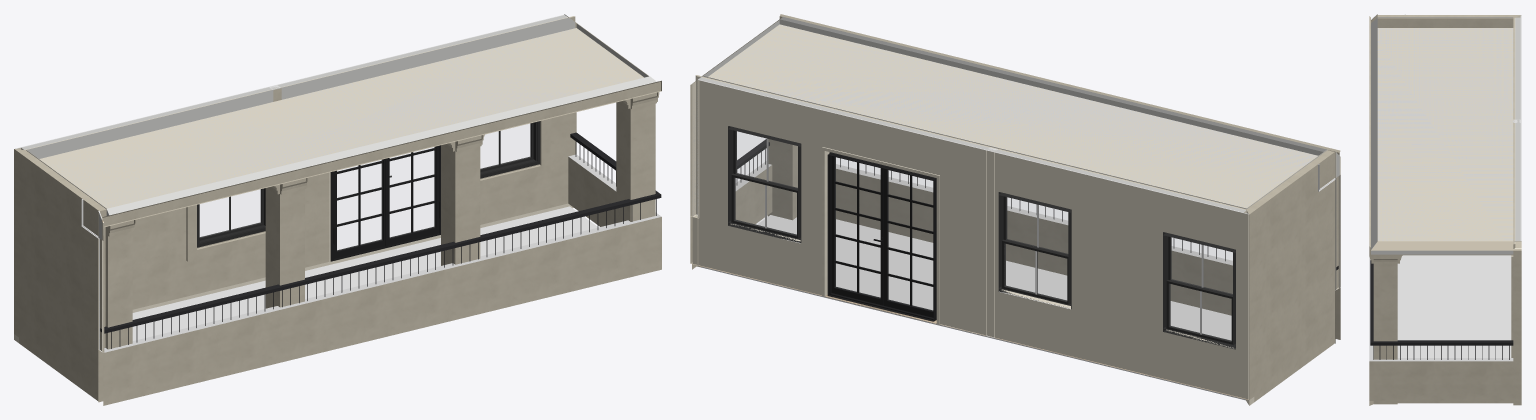
File: front-balcony-fedcafbd5b4b.glb
3 renders of one model, left to right at view 1: azimuth 30°, elevation 25°; view 2: azimuth 150°, elevation 25°; view 3: azimuth 270°, elevation 25°, orthographic. The views are drawn at different scales.
Parts seen in each view (by area): view 1: front-balcony-0ac23dde8d2f7c54, front-balcony-b39baa29700ae605, front-balcony-f6a7cfeba332478b, front-balcony-62353aa10fc57f23, front-balcony-b0ade14315e4f1c3, front-balcony-dbd60ee5c3733ed6, front-balcony-24022e0f0167e9d7, front-balcony-42fce09358828e49, front-balcony-d70d42a253f78e60, front-balcony-f0f007964d256d2c, front-balcony-41597b955207c1bc, front-balcony-771be2dfa886178e (+9 smaller); view 2: front-balcony-b0ade14315e4f1c3, front-balcony-0ac23dde8d2f7c54, front-balcony-f6a7cfeba332478b, front-balcony-62353aa10fc57f23, front-balcony-b39baa29700ae605, front-balcony-dbd60ee5c3733ed6, front-balcony-e1735639a83d20d7, front-balcony-60f0db96f832035a, front-balcony-42fce09358828e49, front-balcony-b5cb73c07919def8, front-balcony-d70d42a253f78e60, front-balcony-06c58750f38c7b4f (+6 smaller); view 3: front-balcony-0ac23dde8d2f7c54, front-balcony-f6a7cfeba332478b, front-balcony-dbd60ee5c3733ed6, front-balcony-dc9de07e6ba3b47a, front-balcony-41597b955207c1bc, front-balcony-b0ade14315e4f1c3, front-balcony-62353aa10fc57f23, front-balcony-adb6f49a6d2cbec3, front-balcony-8ce6cdf114d83750, front-balcony-24022e0f0167e9d7, front-balcony-baca582ee8224556, front-balcony-16d9002bc6318568 (+3 smaller).
Boxes of the visible parts, bbox=[...] form: front-balcony-0ac23dde8d2f7c54: bbox=[26, 18, 656, 215]; front-balcony-b39baa29700ae605: bbox=[98, 216, 661, 405]; front-balcony-f6a7cfeba332478b: bbox=[45, 29, 641, 207]; front-balcony-62353aa10fc57f23: bbox=[14, 149, 106, 401]; front-balcony-b0ade14315e4f1c3: bbox=[15, 15, 575, 309]; front-balcony-dbd60ee5c3733ed6: bbox=[132, 206, 597, 340]; front-balcony-24022e0f0167e9d7: bbox=[102, 80, 661, 227]; front-balcony-42fce09358828e49: bbox=[385, 146, 440, 246]; front-balcony-d70d42a253f78e60: bbox=[333, 159, 385, 258]; front-balcony-f0f007964d256d2c: bbox=[265, 187, 304, 308]; front-balcony-41597b955207c1bc: bbox=[616, 102, 655, 222]; front-balcony-771be2dfa886178e: bbox=[441, 144, 480, 265]; front-balcony-b0ade14315e4f1c3: bbox=[692, 75, 1248, 399]; front-balcony-0ac23dde8d2f7c54: bbox=[702, 17, 1327, 209]; front-balcony-f6a7cfeba332478b: bbox=[710, 24, 1317, 207]; front-balcony-62353aa10fc57f23: bbox=[1246, 150, 1334, 405]; front-balcony-b39baa29700ae605: bbox=[836, 164, 1340, 343]; front-balcony-dbd60ee5c3733ed6: bbox=[702, 215, 1245, 400]; front-balcony-e1735639a83d20d7: bbox=[728, 126, 801, 242]; front-balcony-60f0db96f832035a: bbox=[1163, 232, 1235, 349]; front-balcony-42fce09358828e49: bbox=[831, 156, 883, 305]; front-balcony-b5cb73c07919def8: bbox=[998, 192, 1071, 308]; front-balcony-d70d42a253f78e60: bbox=[884, 168, 933, 317]; front-balcony-06c58750f38c7b4f: bbox=[827, 152, 936, 321]; front-balcony-0ac23dde8d2f7c54: bbox=[1371, 17, 1513, 254]; front-balcony-f6a7cfeba332478b: bbox=[1371, 28, 1513, 255]; front-balcony-dbd60ee5c3733ed6: bbox=[1397, 255, 1513, 403]; front-balcony-dc9de07e6ba3b47a: bbox=[1369, 358, 1513, 400]; front-balcony-41597b955207c1bc: bbox=[1373, 264, 1397, 404]; front-balcony-b0ade14315e4f1c3: bbox=[1513, 15, 1521, 400]; front-balcony-62353aa10fc57f23: bbox=[1377, 15, 1521, 27]; front-balcony-adb6f49a6d2cbec3: bbox=[1513, 249, 1521, 361]; front-balcony-8ce6cdf114d83750: bbox=[1376, 340, 1513, 345]; front-balcony-24022e0f0167e9d7: bbox=[1369, 16, 1370, 255]; front-balcony-baca582ee8224556: bbox=[1370, 260, 1376, 345]; front-balcony-16d9002bc6318568: bbox=[1514, 361, 1521, 400].
Bounding box in the file's own units: 9.14 × 3 × 2.55.
19 materials, 4 textured.
